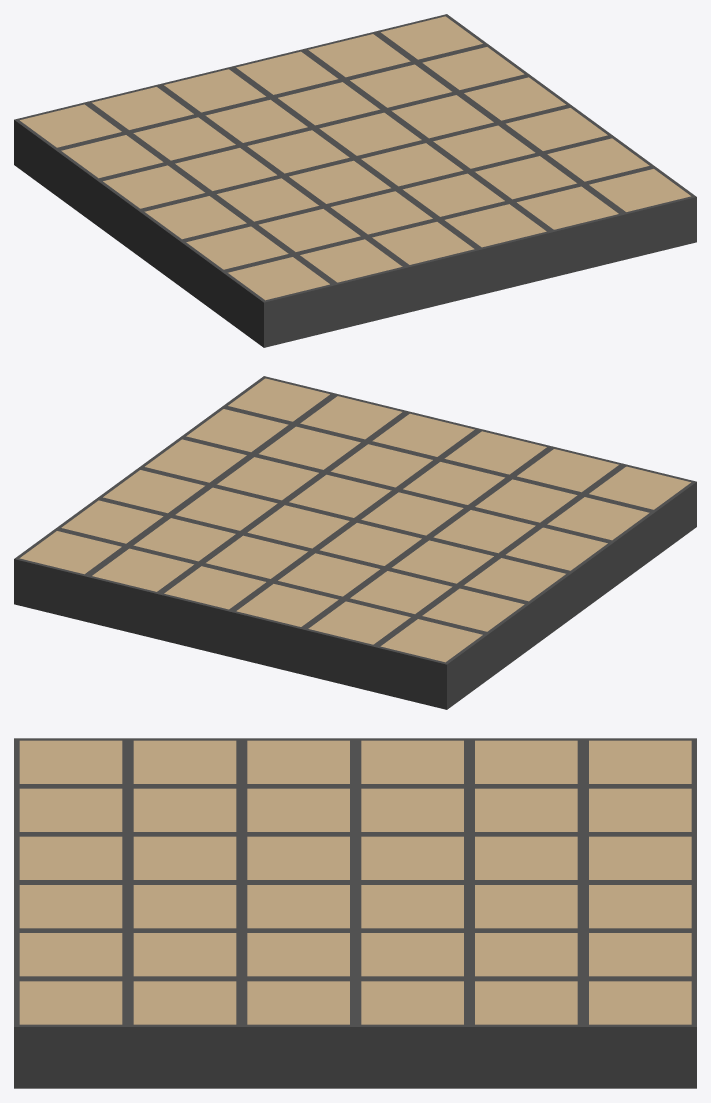
File: Convenience Floor 1.fbx
The picture shows the model from 3 angles, top to bottom: view 1: azimuth 30°, elevation 25°; view 2: azimuth 150°, elevation 25°; view 3: azimuth 270°, elevation 25°; orthographic projection. The views are drawn at different scales.
Visible parts, largest first — view 1: Convenience Floor 1; view 2: Convenience Floor 1; view 3: Convenience Floor 1.
Boxes of the visible parts, bbox=[...] form: Convenience Floor 1: bbox=[14, 14, 696, 347]; Convenience Floor 1: bbox=[14, 376, 696, 709]; Convenience Floor 1: bbox=[14, 738, 696, 1088].
Size of the model in its own units: 1000 by 100 by 1000.
